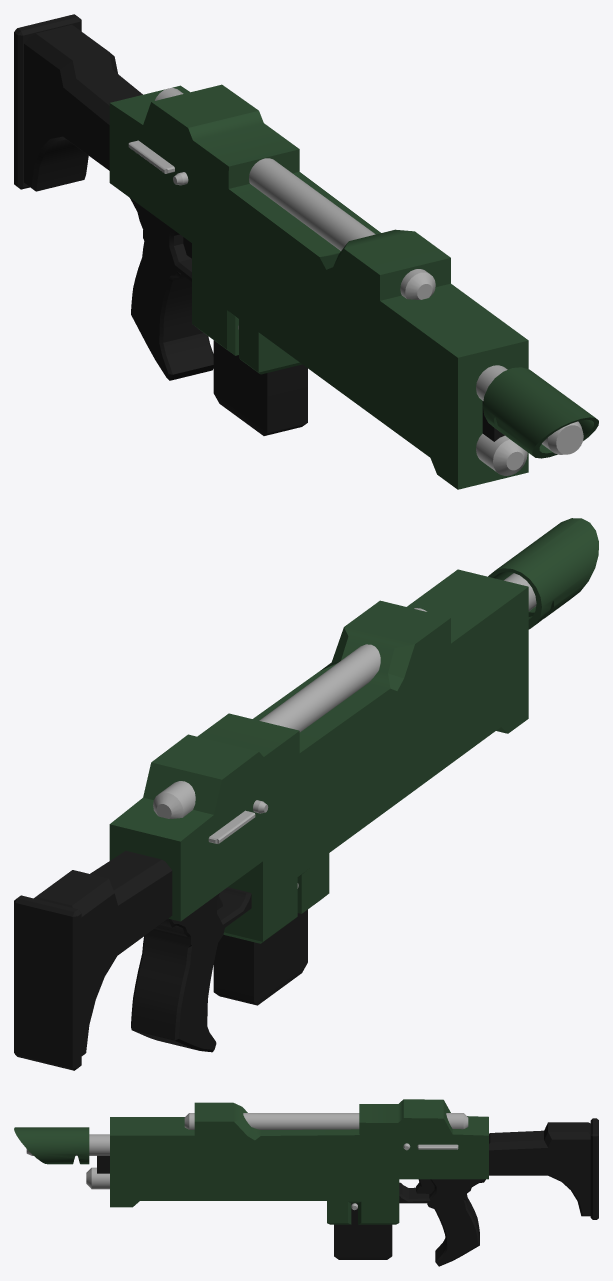
The model's file is Lasgun.fbx.
The picture shows the model from 3 angles, top to bottom: view 1: azimuth 30°, elevation 25°; view 2: azimuth 150°, elevation 25°; view 3: azimuth 270°, elevation 25°; orthographic projection. The views are drawn at different scales.
Parts seen in each view (by area): view 1: pCube13; view 2: pCube13; view 3: pCube13.
Boxes of the visible parts, x1,y1,x2,y2 form: pCube13: (14, 14, 598, 489); pCube13: (14, 518, 598, 1070); pCube13: (14, 1099, 598, 1266).
Size of the model in its own units: 1.28 by 3.77 by 13.13.
